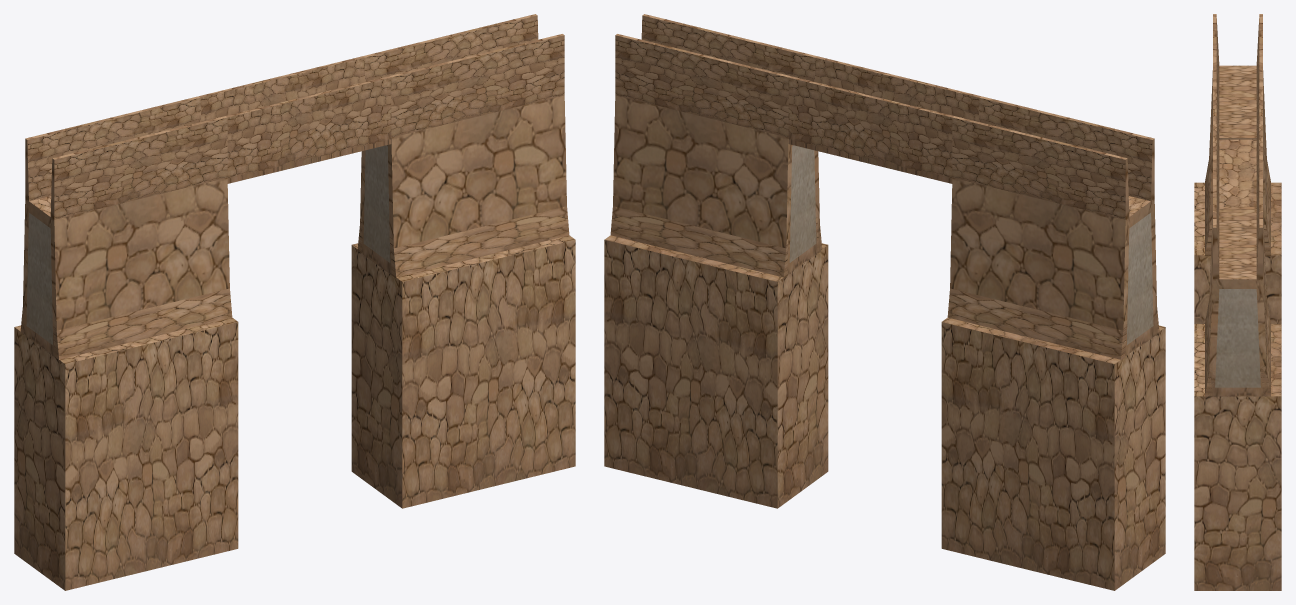
File: tara_wall_gate.dae
3 views of the same model, side by side, from view 1: azimuth 30°, elevation 25°; view 2: azimuth 150°, elevation 25°; view 3: azimuth 270°, elevation 25° (orthographic). The views are drawn at different scales.
Visible parts, largest first — view 1: wall_GATE.001; view 2: wall_GATE.001; view 3: wall_GATE.001.
Part boxes in pixels (x1,y1,x2,y2): wall_GATE.001: [14, 14, 575, 590]; wall_GATE.001: [604, 14, 1165, 590]; wall_GATE.001: [1194, 14, 1281, 590].
Bounding box in the file's own units: 36.93 × 6.37 × 29.26.
